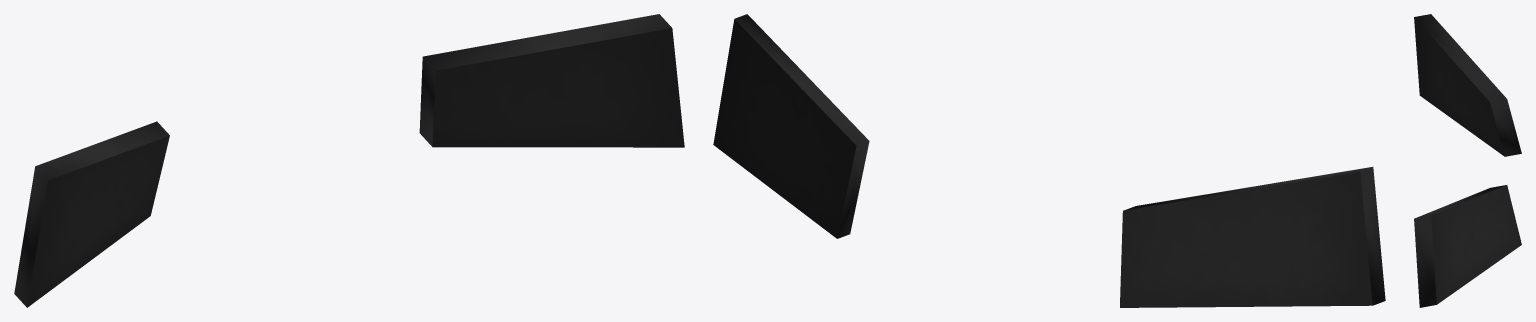
File: Eyes.fbx
3 renders of one model, left to right at view 1: azimuth 30°, elevation 25°; view 2: azimuth 150°, elevation 25°; view 3: azimuth 270°, elevation 25°, orthographic. The views are drawn at different scales.
Parts seen in each view (by area): view 1: Eyes; view 2: Eyes; view 3: Eyes.
Boxes of the visible parts, <box> form: Eyes: <box>14,14,684,307</box>; Eyes: <box>713,14,1385,307</box>; Eyes: <box>1414,14,1521,307</box>.
Size of the model in its own units: 0.2298 by 0.0494 by 0.0442.
